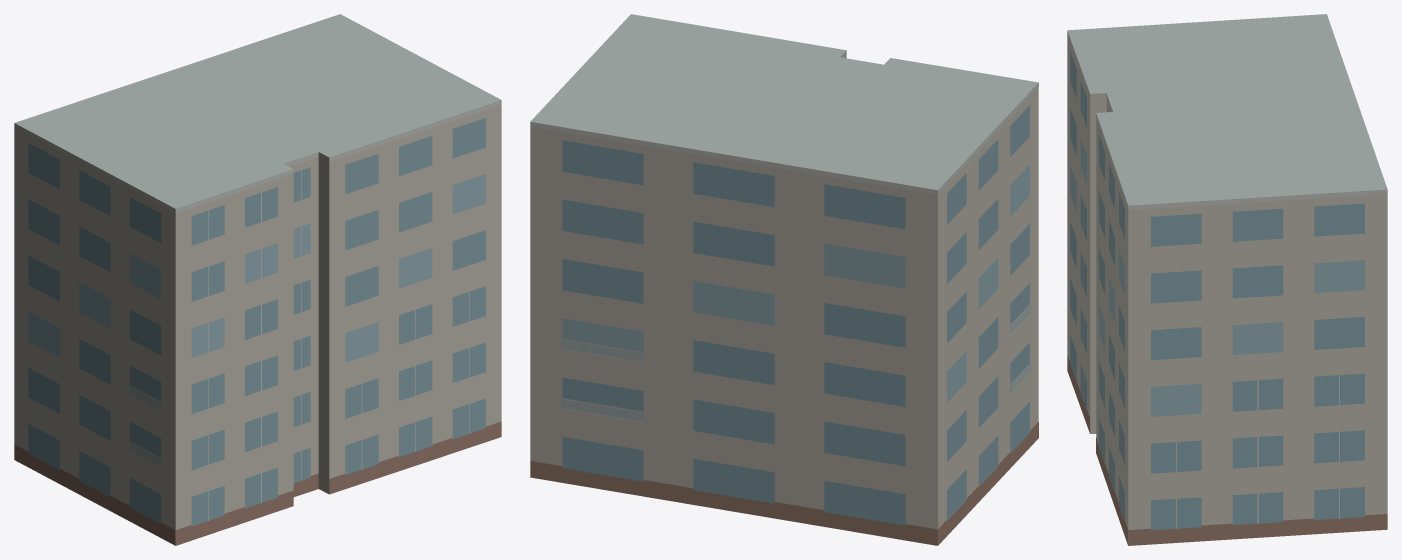
The model's file is survey-upis-32575465.glb.
3 renders of one model, left to right at view 1: azimuth 30°, elevation 25°; view 2: azimuth 150°, elevation 25°; view 3: azimuth 270°, elevation 25°, orthographic. The views are drawn at different scales.
Parts seen in each view (by area): view 1: survey-upis-32575465.tmp; view 2: survey-upis-32575465.tmp; view 3: survey-upis-32575465.tmp.
Boxes of the visible parts, x1,y1,x2,y2 form: survey-upis-32575465.tmp: (14, 14, 501, 545); survey-upis-32575465.tmp: (530, 14, 1038, 545); survey-upis-32575465.tmp: (1067, 14, 1387, 545).
Bounding box in the file's own units: 21.4 × 17.7 × 15.12.
